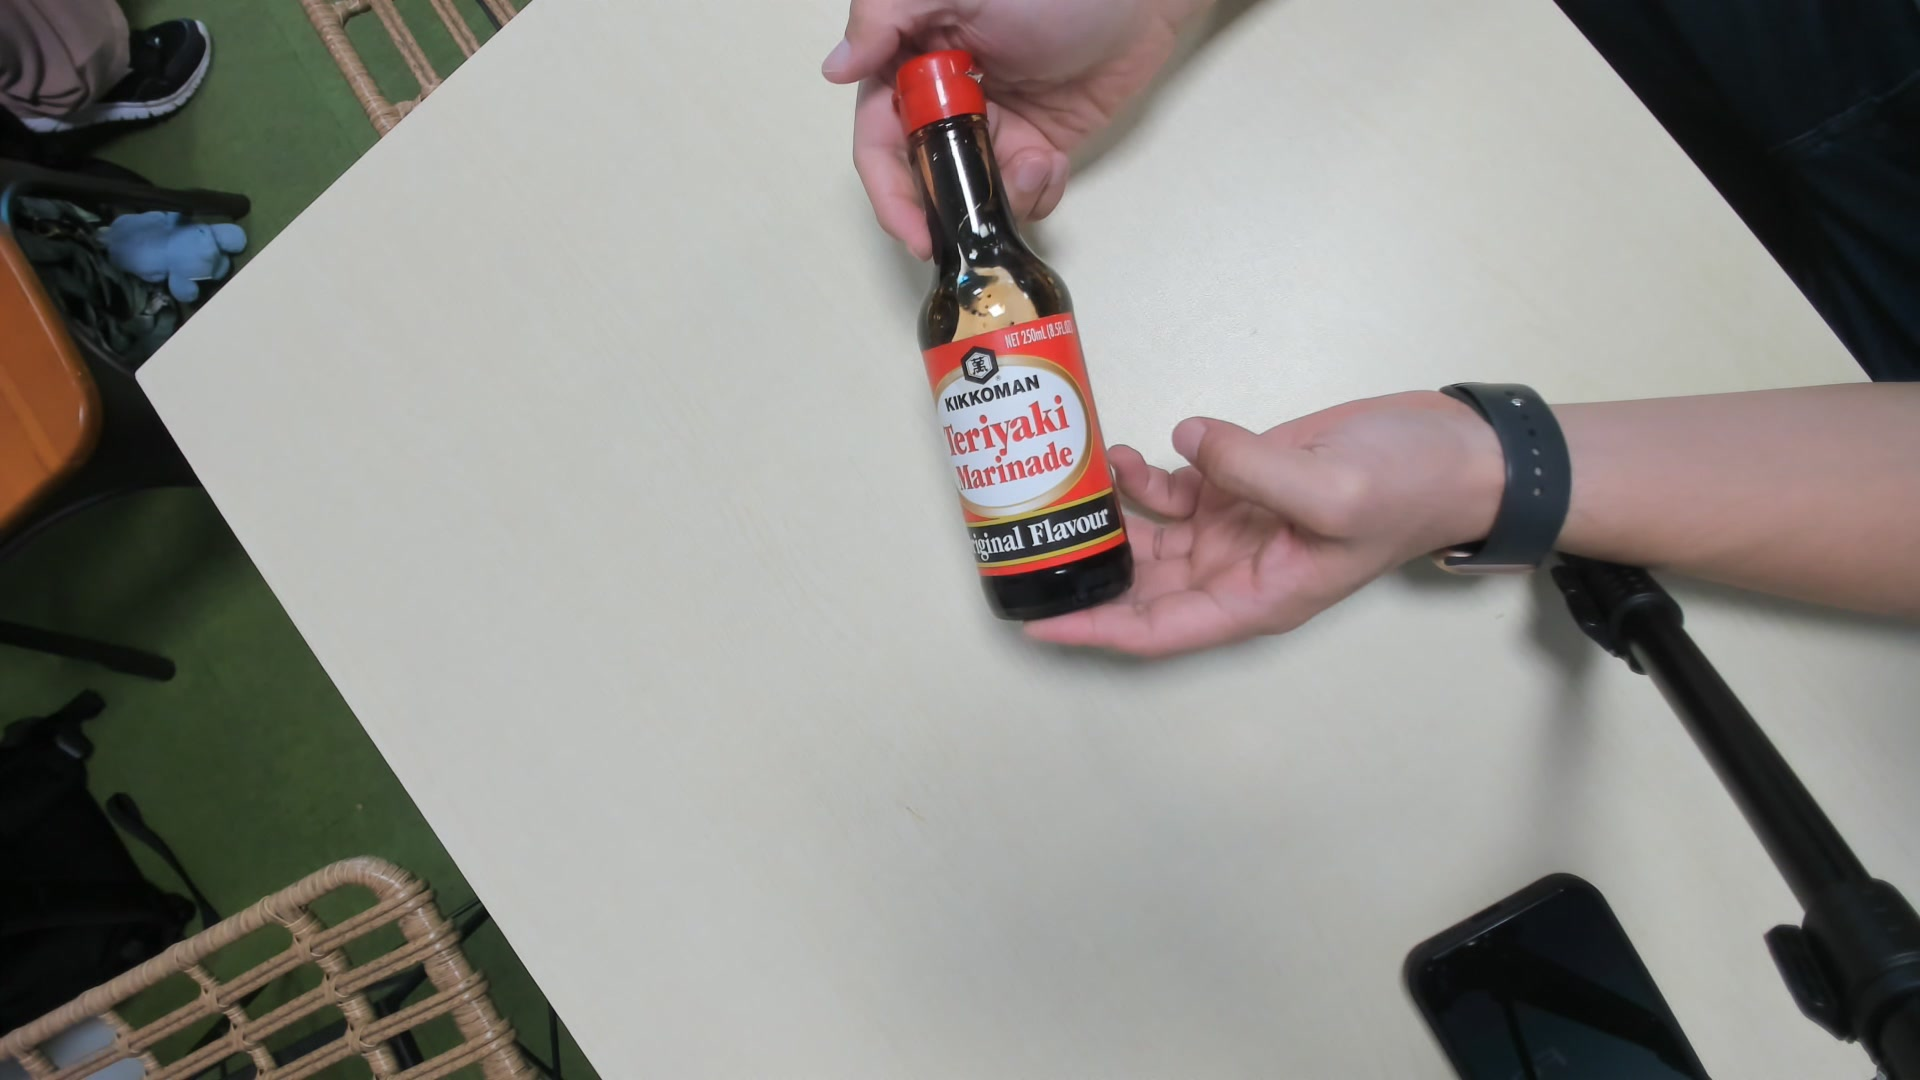OtherSauceDressing_200-299g_NonHalal_NonHealthy: (898, 47, 1133, 621)
